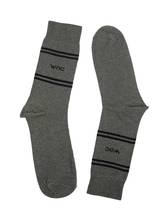sock: (86, 25, 152, 205), (18, 20, 80, 202)
